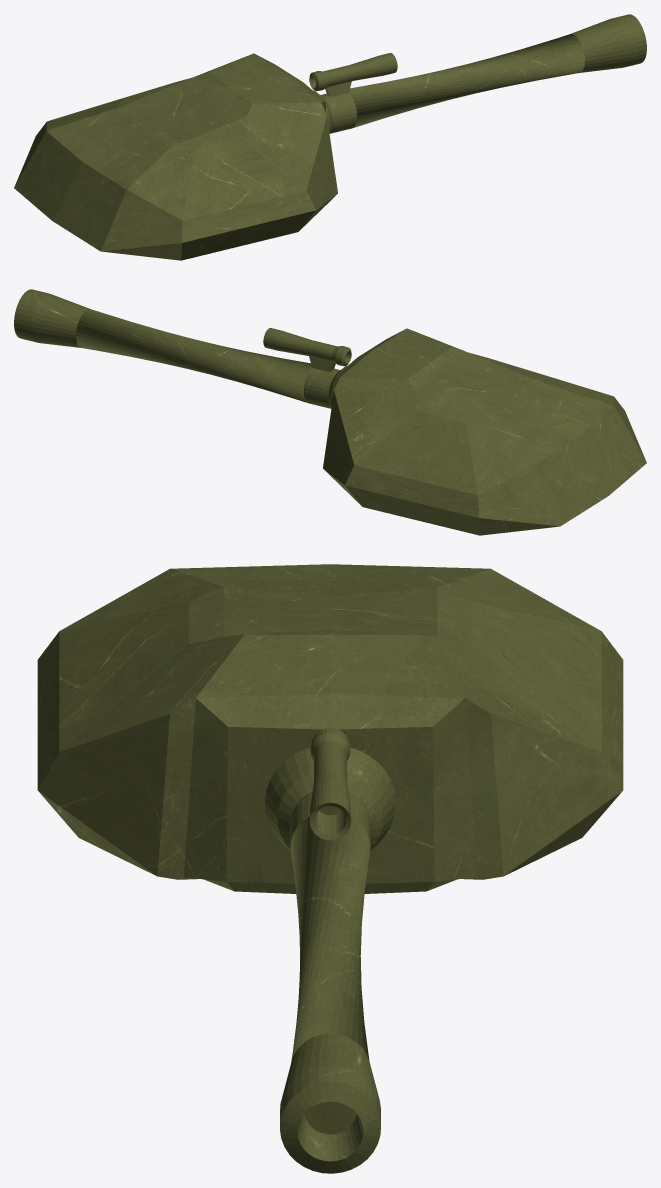
Rendered from Sniper.fbx.
3 views of the same model, one above another, from view 1: azimuth 30°, elevation 25°; view 2: azimuth 150°, elevation 25°; view 3: azimuth 270°, elevation 25° (orthographic). The views are drawn at different scales.
Visible parts, largest first — view 1: Sniper; view 2: Sniper; view 3: Sniper.
Boxes of the visible parts, x1,y1,x2,y2 form: Sniper: [14, 14, 646, 260]; Sniper: [14, 289, 646, 535]; Sniper: [37, 564, 623, 1173].
Bounding box in the file's own units: 2060 × 441 × 892.
